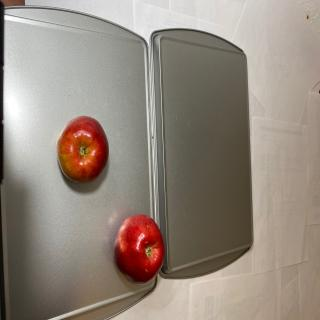Apple: (113, 214, 165, 285), (56, 115, 109, 183)
